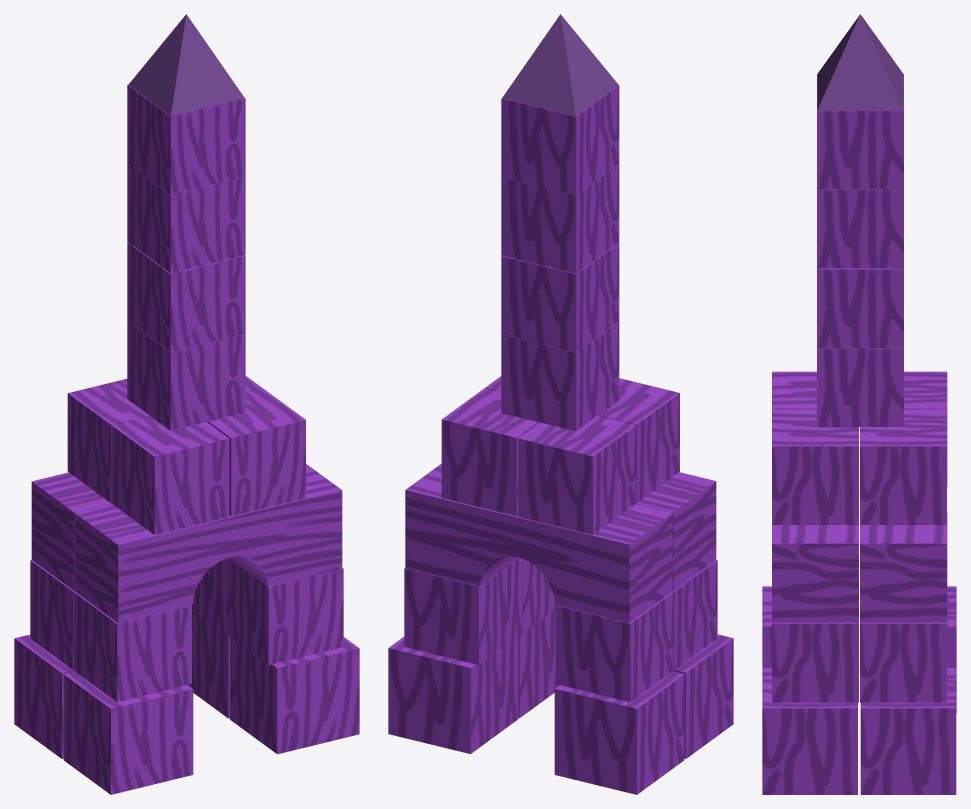
File: Level2-4_TopPart.fbx
The picture shows the model from 3 angles, left to right: view 1: azimuth 30°, elevation 25°; view 2: azimuth 150°, elevation 25°; view 3: azimuth 270°, elevation 25°; orthographic projection.
Parts seen in each view (by area): view 1: Cube.013, Cube.020, Cube.024, Cube.018, Cube.001, Cube.003, Cube.008, Cube.016, Cube.002, Cube.007, Cube.022, Cube.011 (+6 smaller); view 2: Cube.014, Cube.021, Cube.025, Cube.019, Cube.017, Cube.001, Cube.003, Cube.008, Cube.002, Cube.015, Cube.023, Cube.011 (+6 smaller); view 3: Cube.019, Cube.022, Cube.023, Cube.018, Cube.013, Cube.014, Cube.007, Cube.015, Cube.003, Cube.001, Cube.002, Cube.008 (+5 smaller).
Part boxes in pixels (x1,y1,x2,y2): Cube.013: (75, 464, 342, 622); Cube.020: (63, 671, 193, 794); Cube.024: (111, 416, 229, 534); Cube.018: (230, 637, 359, 754); Cube.001: (127, 242, 245, 351); Cube.003: (127, 85, 245, 194); Cube.008: (127, 321, 245, 430); Cube.016: (74, 592, 191, 702); Cube.002: (127, 163, 245, 272); Cube.007: (225, 558, 343, 664); Cube.022: (207, 388, 305, 516); Cube.011: (128, 14, 244, 115); Cube.014: (405, 463, 672, 622); Cube.021: (554, 671, 684, 794); Cube.025: (518, 415, 636, 534); Cube.019: (388, 637, 518, 753); Cube.017: (555, 592, 673, 702); Cube.001: (501, 242, 619, 352); Cube.003: (501, 85, 619, 194); Cube.008: (501, 321, 619, 431); Cube.002: (501, 164, 619, 273); Cube.015: (404, 558, 522, 664); Cube.023: (441, 388, 539, 515); Cube.011: (502, 14, 618, 116); Cube.019: (860, 668, 956, 794); Cube.022: (772, 409, 858, 524); Cube.023: (860, 409, 946, 524); Cube.018: (762, 668, 857, 794); Cube.013: (772, 525, 858, 622); Cube.014: (860, 525, 946, 622); Cube.007: (772, 622, 858, 702); Cube.015: (860, 622, 946, 702); Cube.003: (817, 74, 903, 189); Cube.001: (817, 268, 903, 347); Cube.002: (817, 189, 903, 268); Cube.008: (817, 348, 903, 426).
Bounding box in the file's own units: 664 × 1826 × 447.
